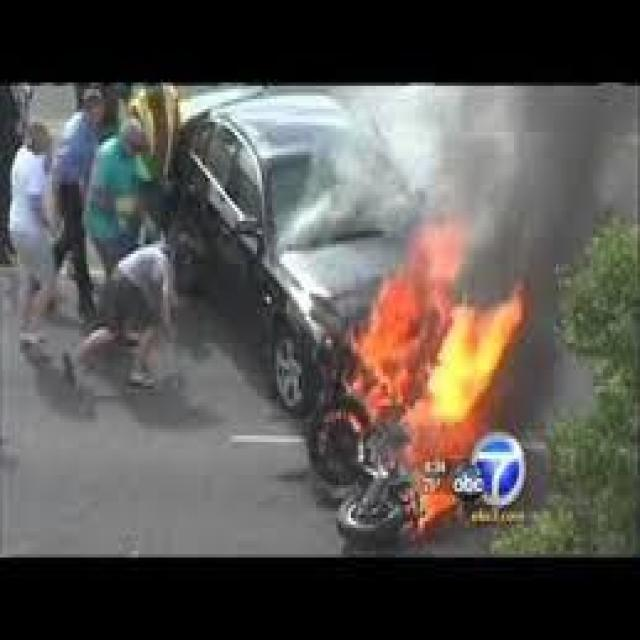fire: (290, 196, 533, 497)
